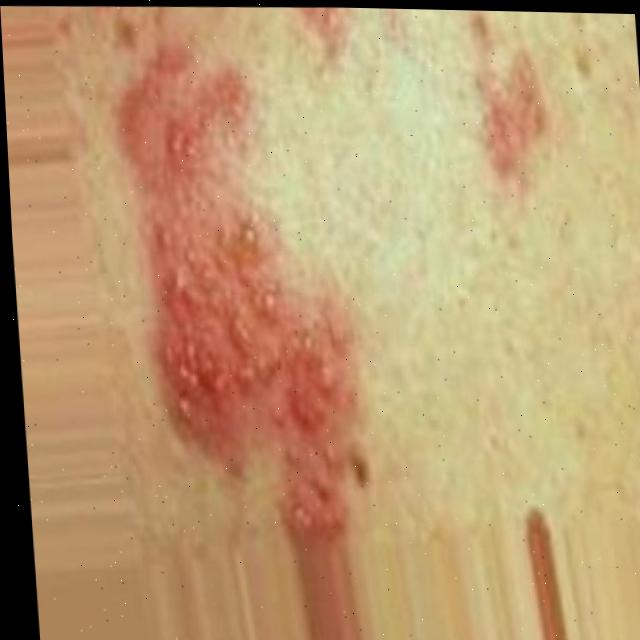Shingles: (104, 45, 381, 539), (462, 24, 558, 186), (286, 6, 367, 65)
